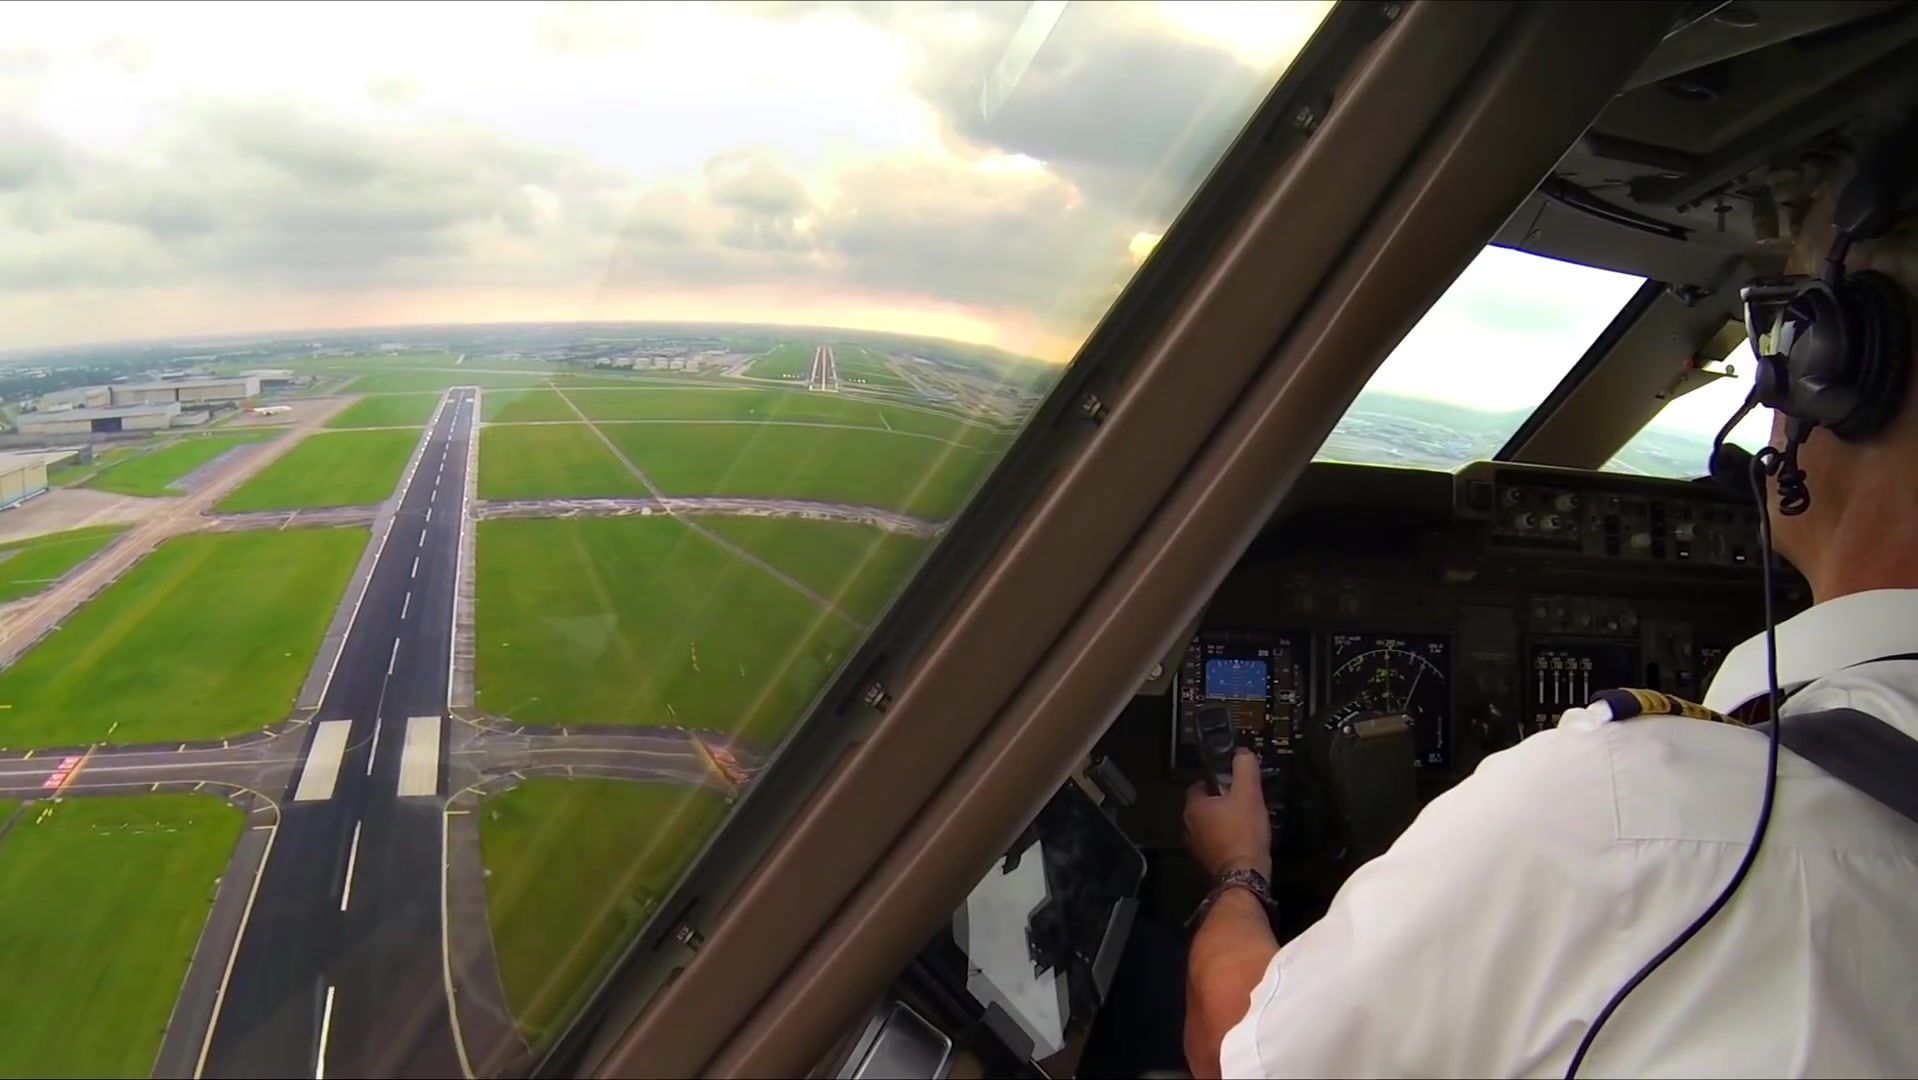runway: (808, 345, 840, 400)
